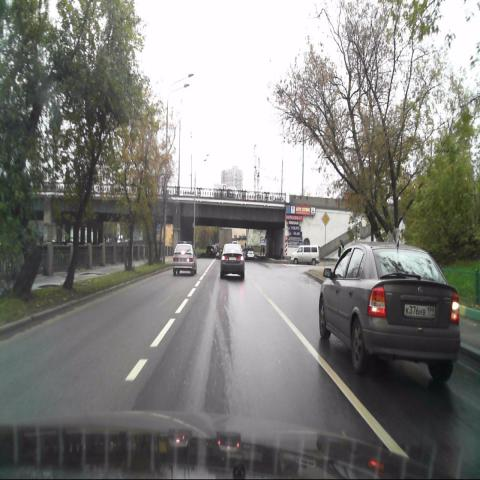2_1: (320, 211, 330, 226)
